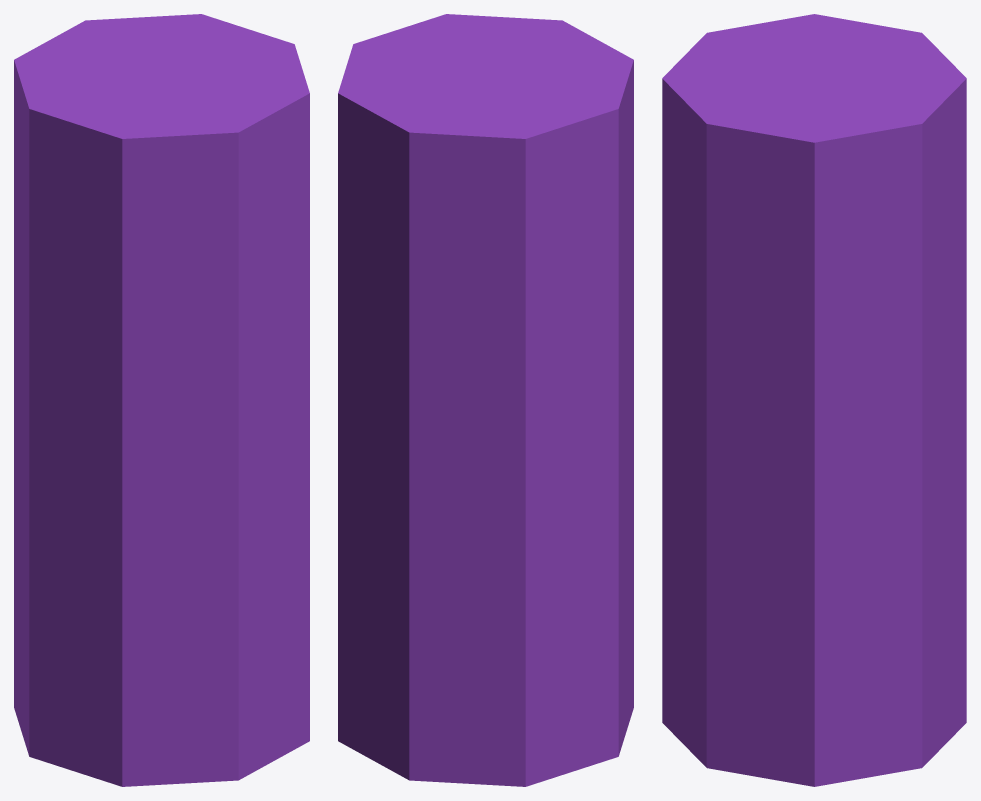
The model's file is test_candle.obj.
3 views of the same model, side by side, from view 1: azimuth 30°, elevation 25°; view 2: azimuth 150°, elevation 25°; view 3: azimuth 270°, elevation 25° (orthographic).
Visible parts, largest first — view 1: Candle; view 2: Candle; view 3: Candle.
Part boxes in pixels (bbox=[...]): Candle: bbox=[14, 14, 309, 786]; Candle: bbox=[338, 14, 633, 786]; Candle: bbox=[662, 14, 966, 786].
Bounding box in the file's own units: 6 × 14 × 6.
